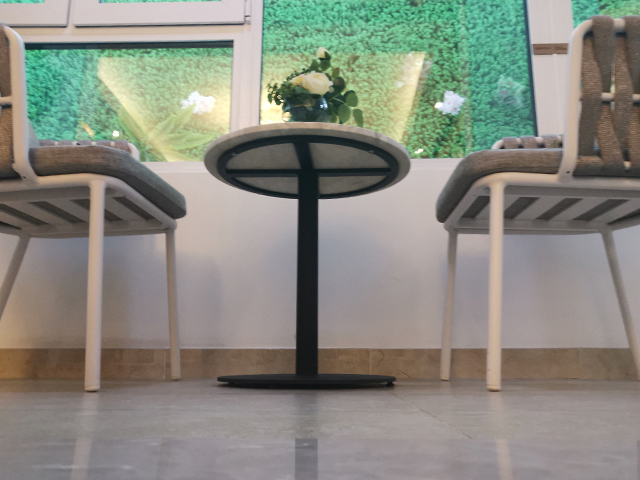stool: (433, 14, 640, 393), (1, 22, 188, 394)
table: (201, 120, 411, 390)
